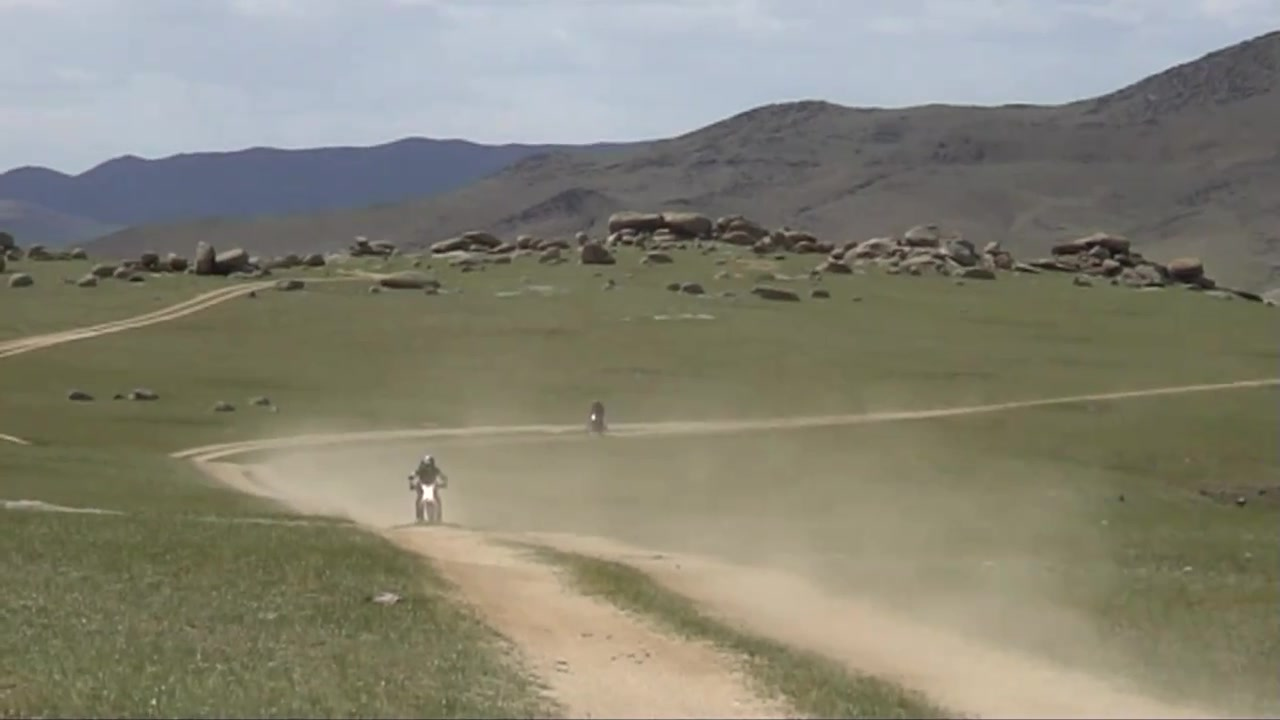motorbike: (407, 473, 451, 526), (589, 413, 612, 437)
